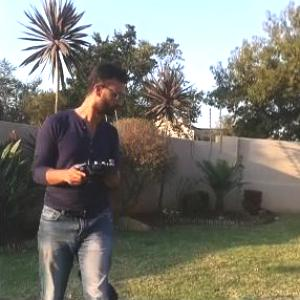follow: (27, 51, 131, 299)
